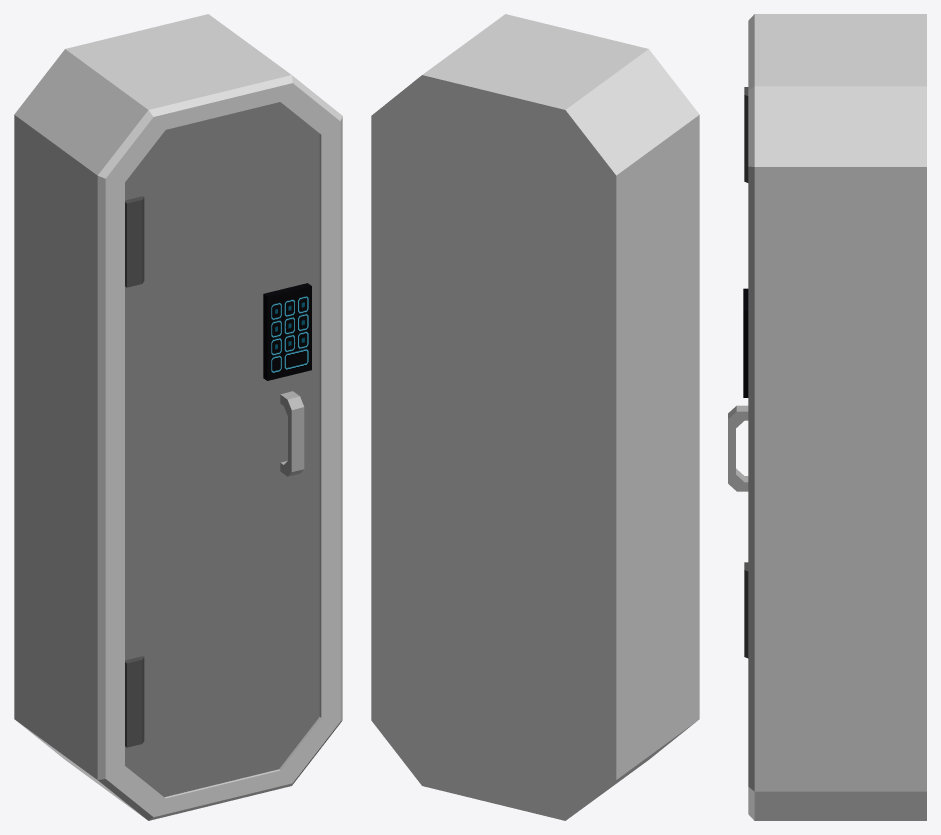
File: SM_Locker_1.fbx
The picture shows the model from 3 angles, left to right: view 1: azimuth 30°, elevation 25°; view 2: azimuth 150°, elevation 25°; view 3: azimuth 270°, elevation 25°; orthographic projection. The views are drawn at different scales.
Parts seen in each view (by area): view 1: SM_Locker_Door_1, SM_Locker_1; view 2: SM_Locker_1; view 3: SM_Locker_1, SM_Locker_Door_1.
Boxes of the visible parts, x1,y1,x2,y2 form: SM_Locker_Door_1: (125, 102, 319, 797); SM_Locker_1: (14, 14, 342, 820); SM_Locker_1: (371, 14, 699, 820); SM_Locker_1: (744, 14, 926, 820); SM_Locker_Door_1: (728, 288, 748, 491).
Bounding box in the file's own units: 65.56 × 182 × 44.57.
